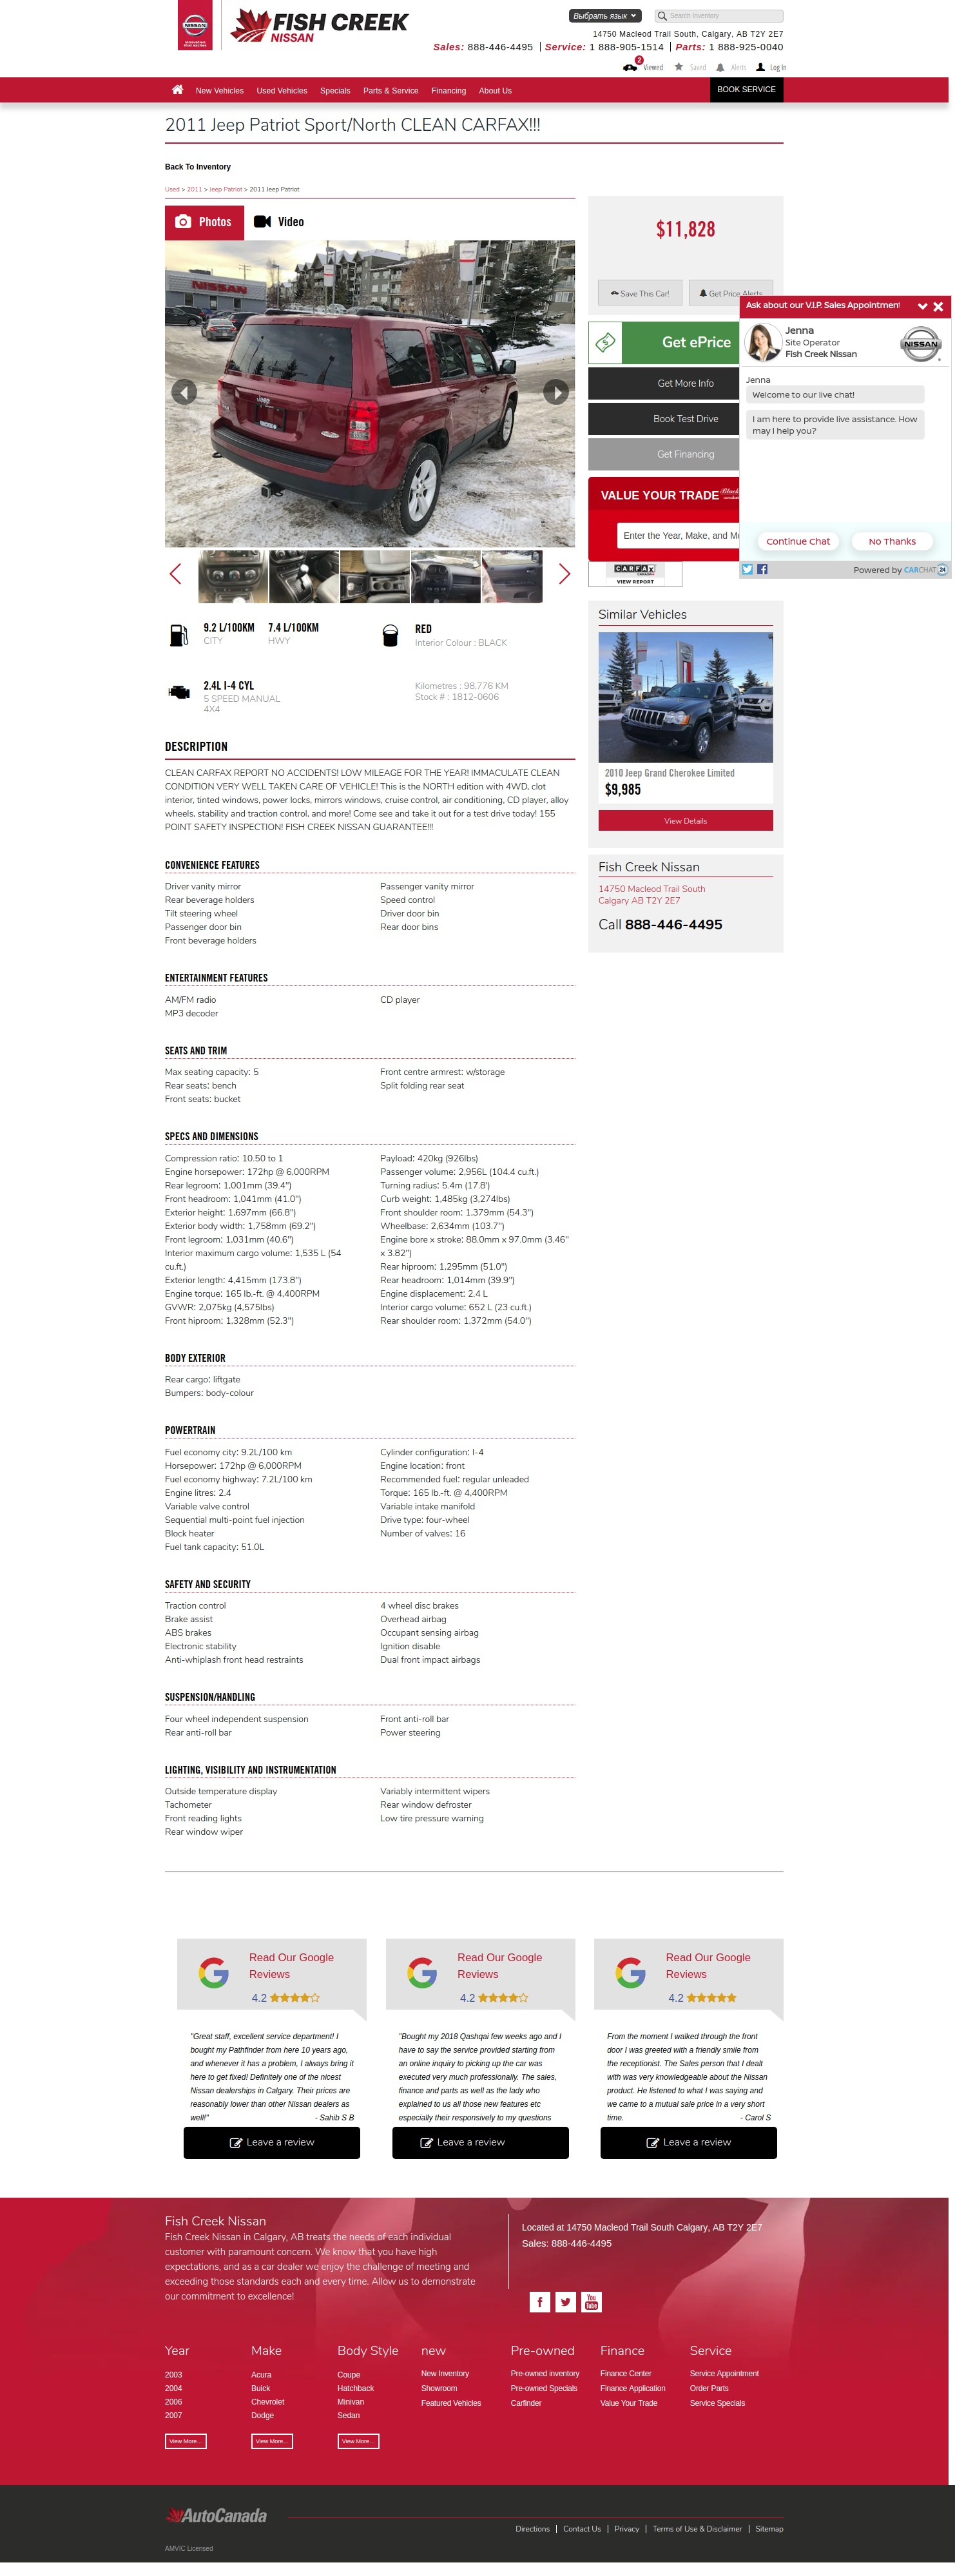car: (559, 563, 572, 585)
